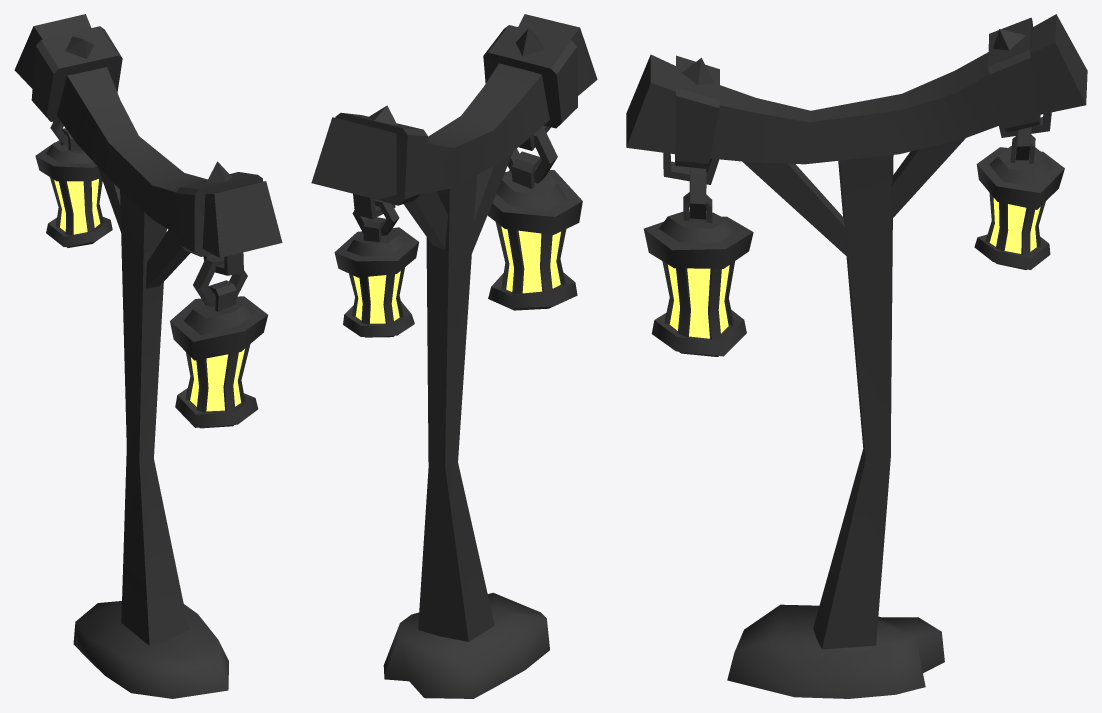
Rendered from SM_PROP_streetlamp_v02_02.FBX.
3 renders of one model, left to right at view 1: azimuth 30°, elevation 25°; view 2: azimuth 150°, elevation 25°; view 3: azimuth 270°, elevation 25°, orthographic. The views are drawn at different scales.
Visible parts, largest first — view 1: SM_PROP_streetlamp_v02_02; view 2: SM_PROP_streetlamp_v02_02; view 3: SM_PROP_streetlamp_v02_02.
Boxes of the visible parts, box(x1,y1,x2,y2) form: SM_PROP_streetlamp_v02_02: box(14, 14, 282, 698); SM_PROP_streetlamp_v02_02: box(311, 14, 597, 698); SM_PROP_streetlamp_v02_02: box(626, 14, 1087, 698).
Bounding box in the file's own units: 82.32 × 263 × 402.
